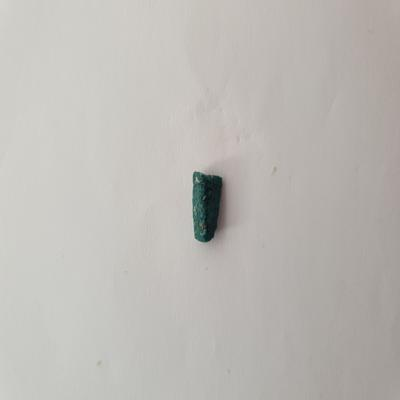plastic: (186, 168, 226, 247)
